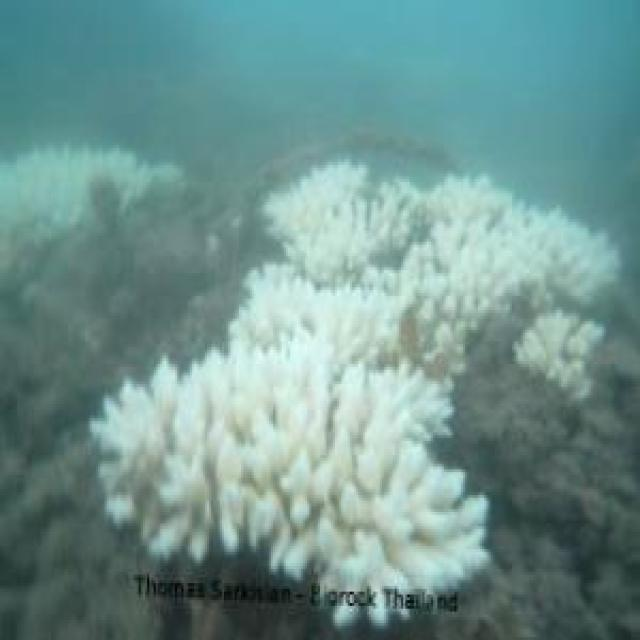bleached coral: (95, 340, 488, 589), (264, 160, 619, 298), (231, 235, 489, 378), (230, 276, 403, 364), (0, 148, 182, 229), (286, 165, 416, 273), (439, 193, 591, 284), (373, 449, 478, 566), (0, 154, 149, 222), (514, 310, 602, 399), (275, 412, 339, 503), (177, 375, 235, 472), (100, 387, 169, 466)
